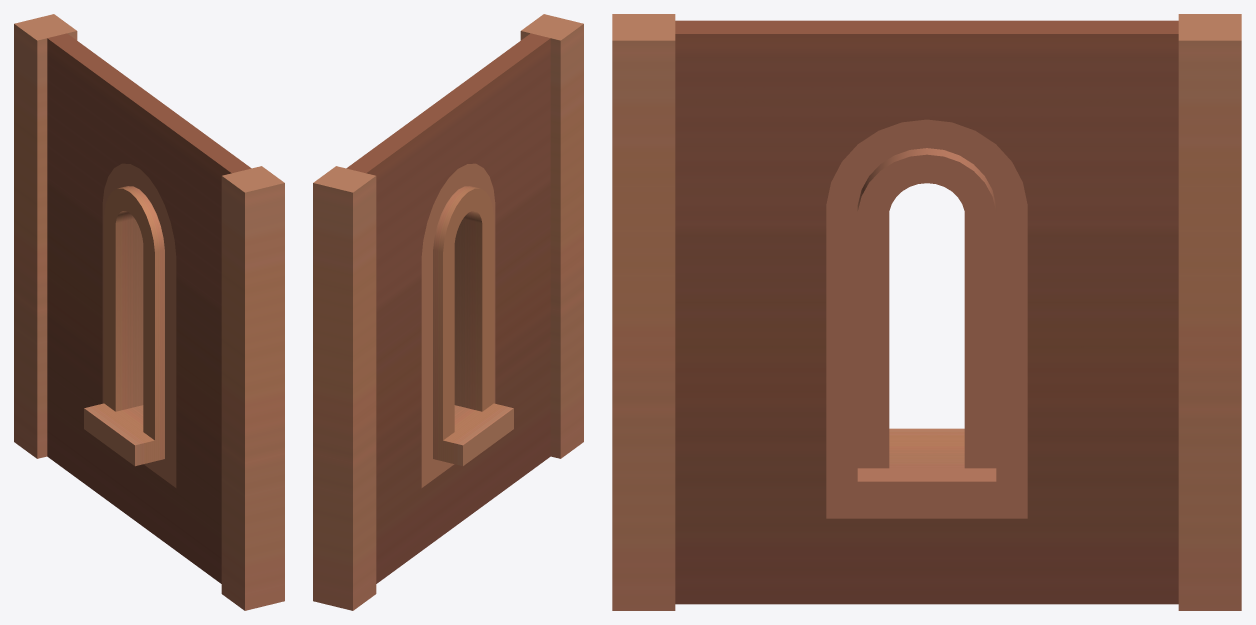
File: wall-wood-window-round.glb
The picture shows the model from 3 angles, left to right: view 1: azimuth 30°, elevation 25°; view 2: azimuth 150°, elevation 25°; view 3: azimuth 270°, elevation 25°; orthographic projection. The views are drawn at different scales.
Visible parts, largest first — view 1: wall-wood-window-round; view 2: wall-wood-window-round; view 3: wall-wood-window-round.
Boxes of the visible parts, x1,y1,x2,y2 form: wall-wood-window-round: [14, 14, 284, 610]; wall-wood-window-round: [313, 14, 583, 610]; wall-wood-window-round: [612, 14, 1241, 610].
Bounding box in the file's own units: 0.2 × 1 × 1.
Materials: 1 (1 with a texture image).
